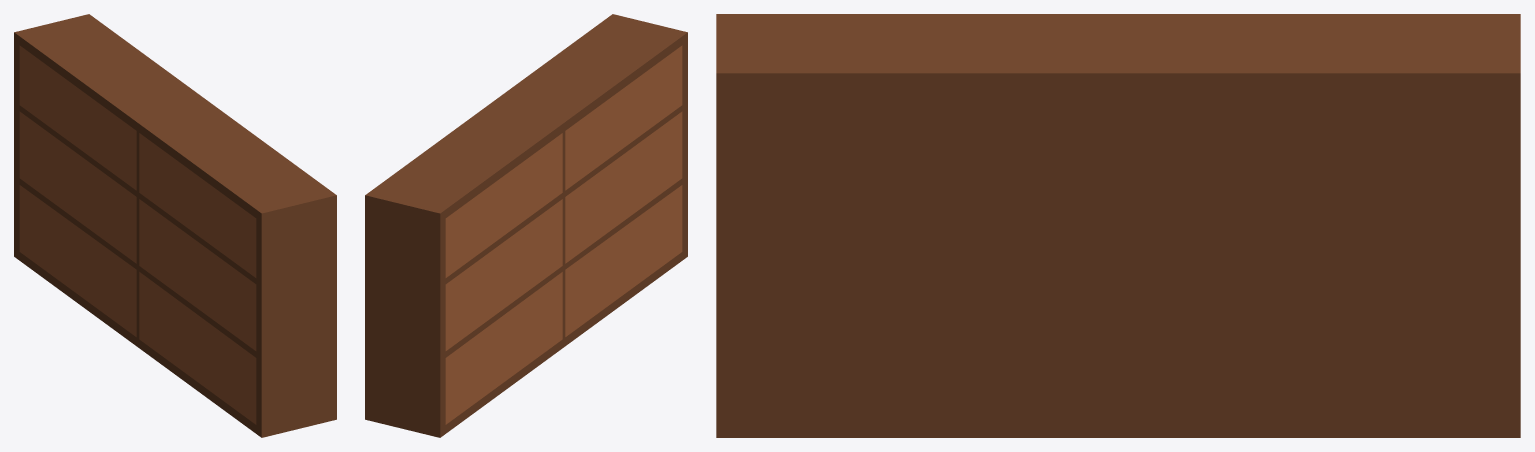
The model's file is halbe Komode.fbx.
3 renders of one model, left to right at view 1: azimuth 30°, elevation 25°; view 2: azimuth 150°, elevation 25°; view 3: azimuth 270°, elevation 25°, orthographic. The views are drawn at different scales.
Visible parts, largest first — view 1: Cube; view 2: Cube; view 3: Cube.
Boxes of the visible parts, box(x1,y1,x2,y2) form: Cube: box(14, 14, 336, 437); Cube: box(365, 14, 687, 437); Cube: box(716, 14, 1520, 437).
Bounding box in the file's own units: 35 × 100 × 200.
